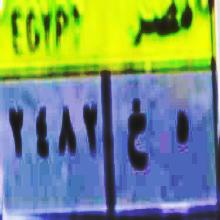2: (7, 103, 26, 161), (82, 97, 99, 154)
4: (33, 106, 50, 166)
8: (55, 105, 77, 166)
haa: (172, 99, 190, 156)
khaa: (122, 96, 152, 169)
